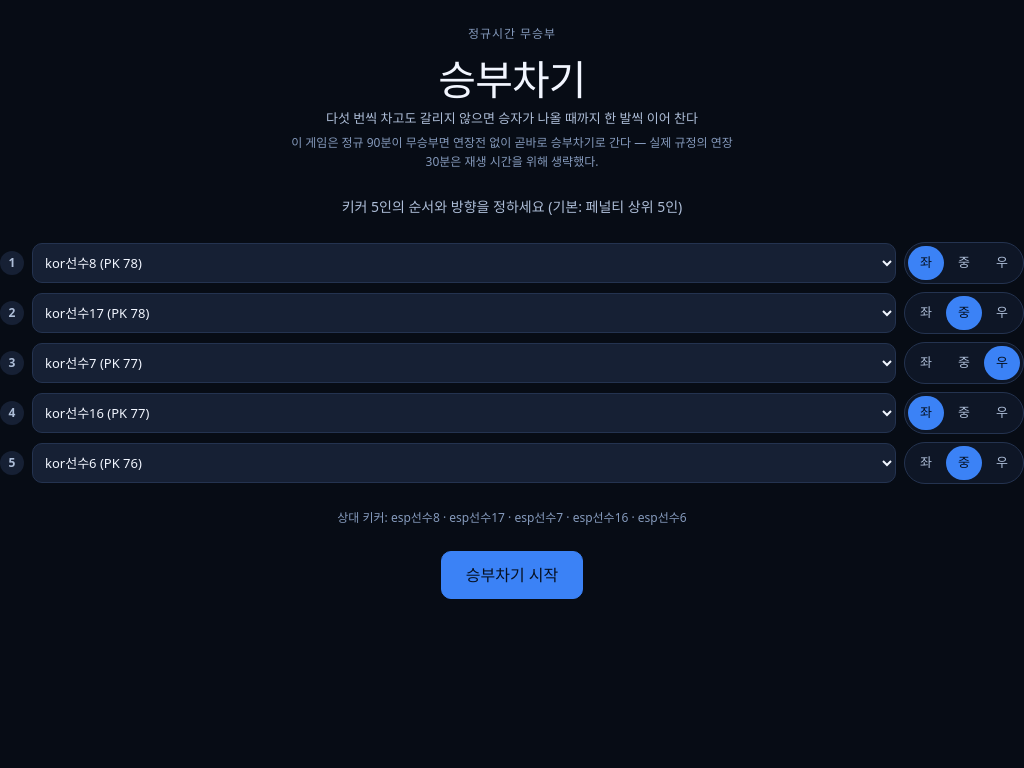
Test: ShootoutPanel 렌더 스모크 › 서든데스로 넘어가면 순번이 SD 표기로 바뀌고 구분 표시가 붙는다
What coordinates should you click on to do the following:
click the button "승부차기 시작"
I would click on:
 (512, 575)
Its box is [441,551,583,599].
Wait 32000 ms
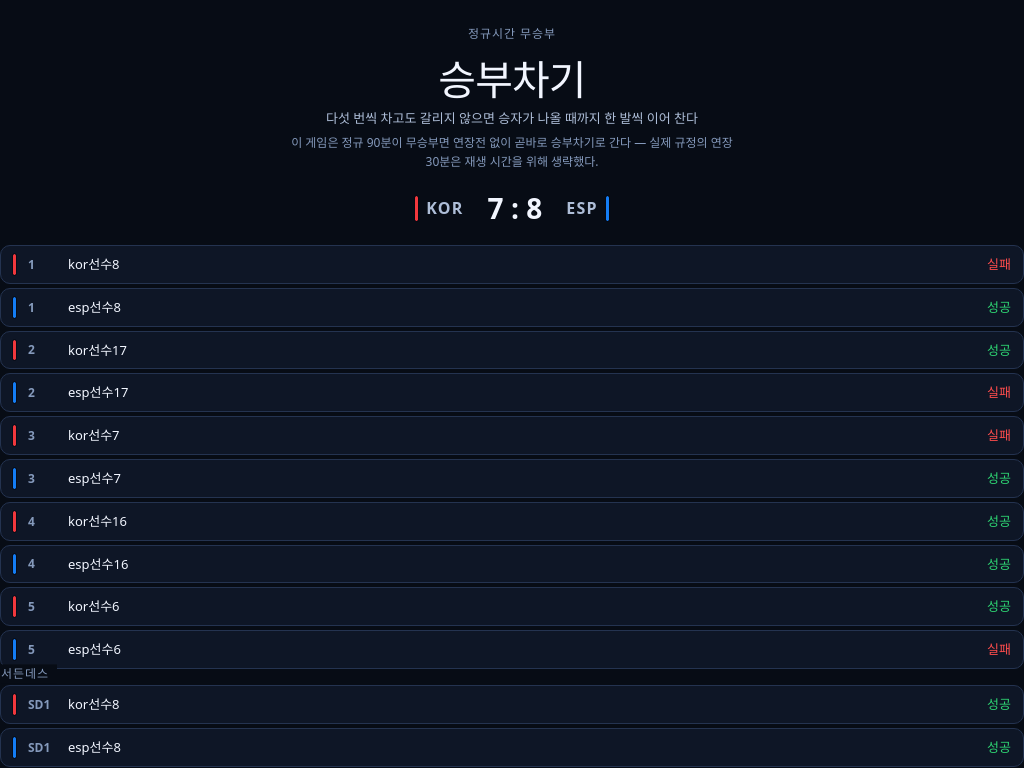
Expected: the number of list items with class "so-kick--sudden" is 1, [0,685,1023,724]
Expected: the 1st text with class "so-kick__no" reads "SD1", [28,696,50,713]
